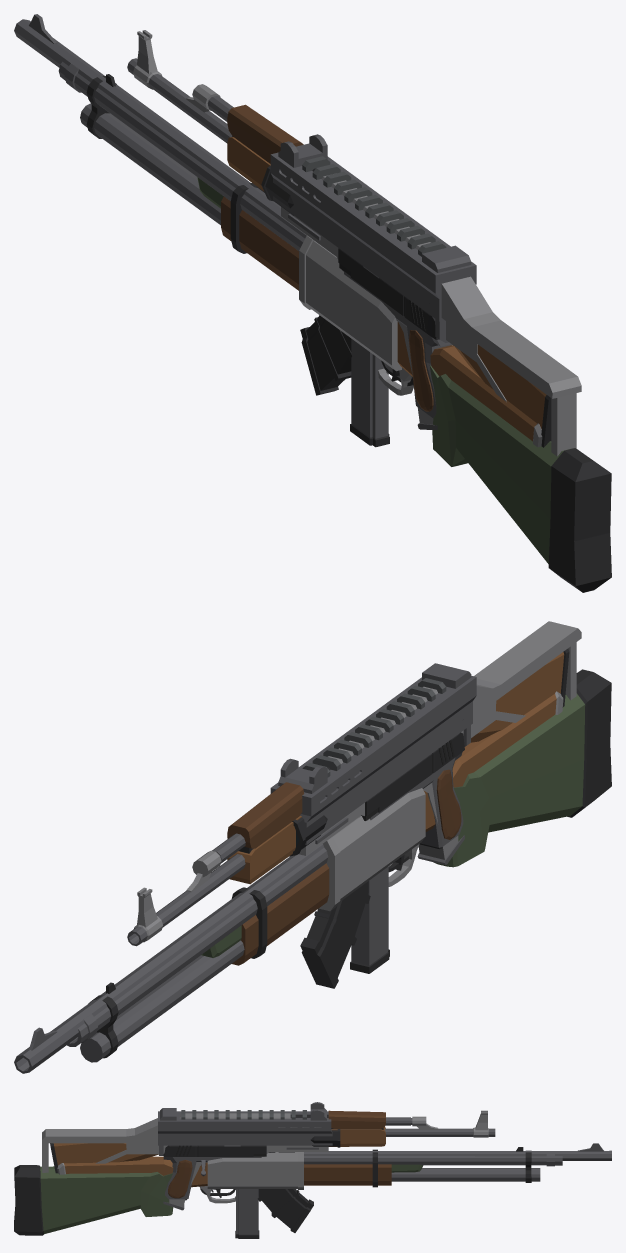
File: weapons.glb
3 renders of one model, top to bottom at view 1: azimuth 30°, elevation 25°; view 2: azimuth 150°, elevation 25°; view 3: azimuth 270°, elevation 25°, orthographic. The views are drawn at different scales.
Visible parts, largest first — view 1: smg, sniper, shotgun, ar, pistol; view 2: smg, shotgun, sniper, ar, pistol; view 3: shotgun, sniper, smg, ar, pistol.
Boxes of the visible parts, box(x1,y1,x2,y2) form: smg: box(270, 134, 581, 456); sniper: box(14, 14, 611, 592); shotgun: box(58, 61, 542, 447); ar: box(127, 30, 551, 447); pistol: box(338, 248, 452, 418); smg: box(270, 621, 581, 973); shotgun: box(67, 691, 563, 1062); sniper: box(14, 669, 611, 1073); ar: box(127, 648, 569, 988); pistol: box(361, 732, 464, 849); shotgun: box(57, 1147, 562, 1203); sniper: box(14, 1129, 611, 1235); smg: box(42, 1102, 332, 1238); ar: box(50, 1110, 495, 1232); pistol: box(163, 1145, 266, 1200).
Size of the model in its own units: 0.0743 by 0.2832 by 1.18.
